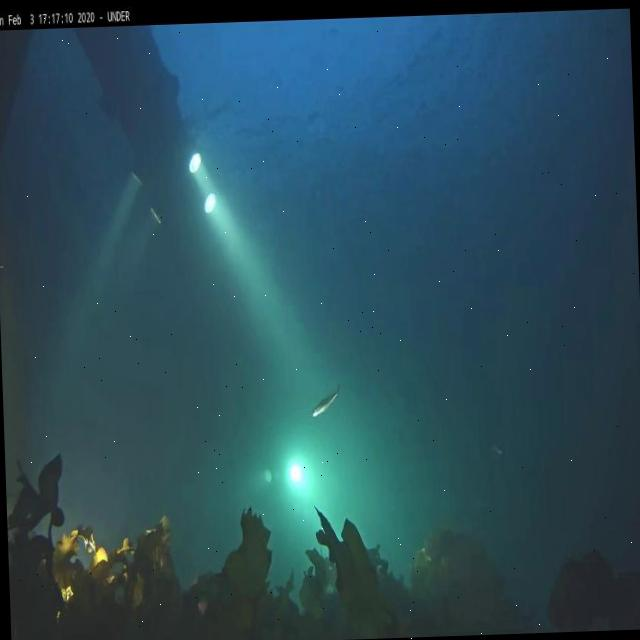fish: (310, 389, 339, 423)
